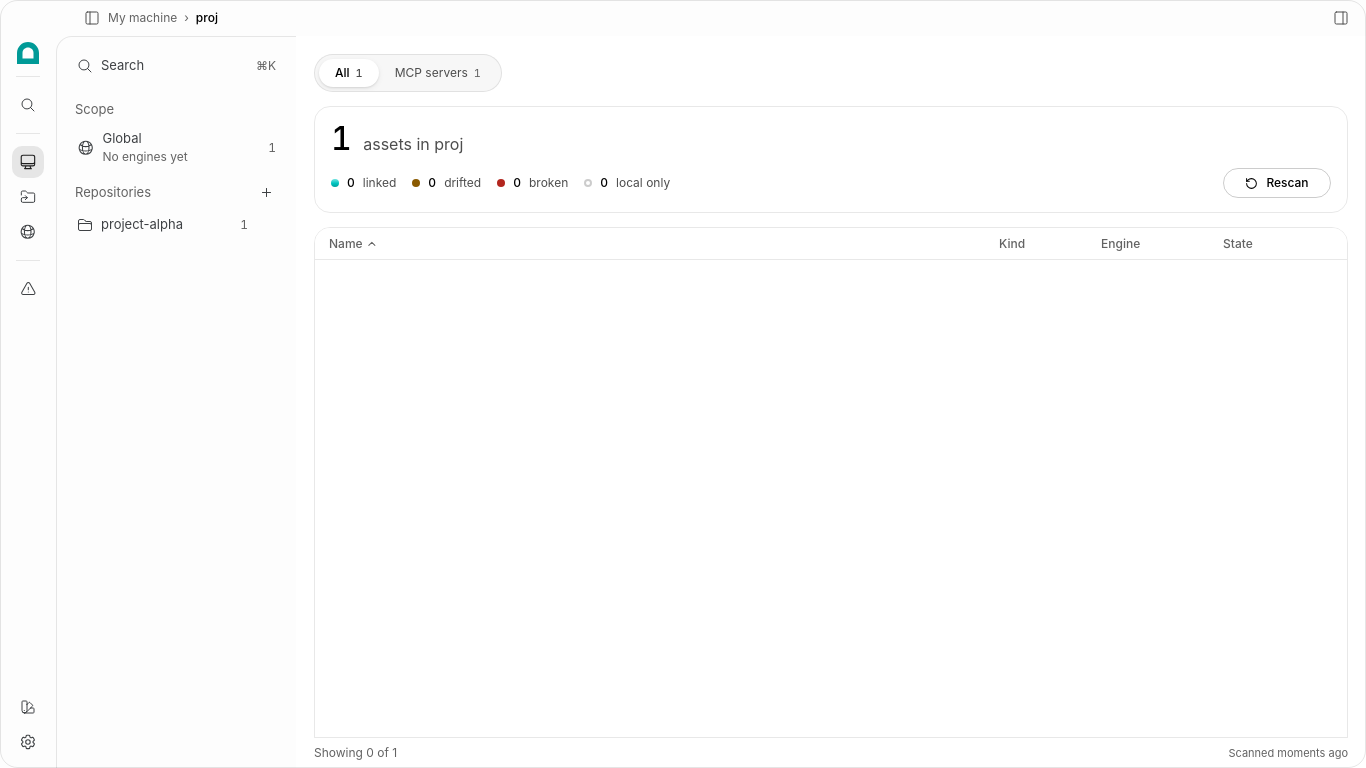
Test: picking a search hit › a tool hit opens its server on Global
Expected: the navigation bar with test id "icon-rail" is shown, [0,36,56,767]
Press k
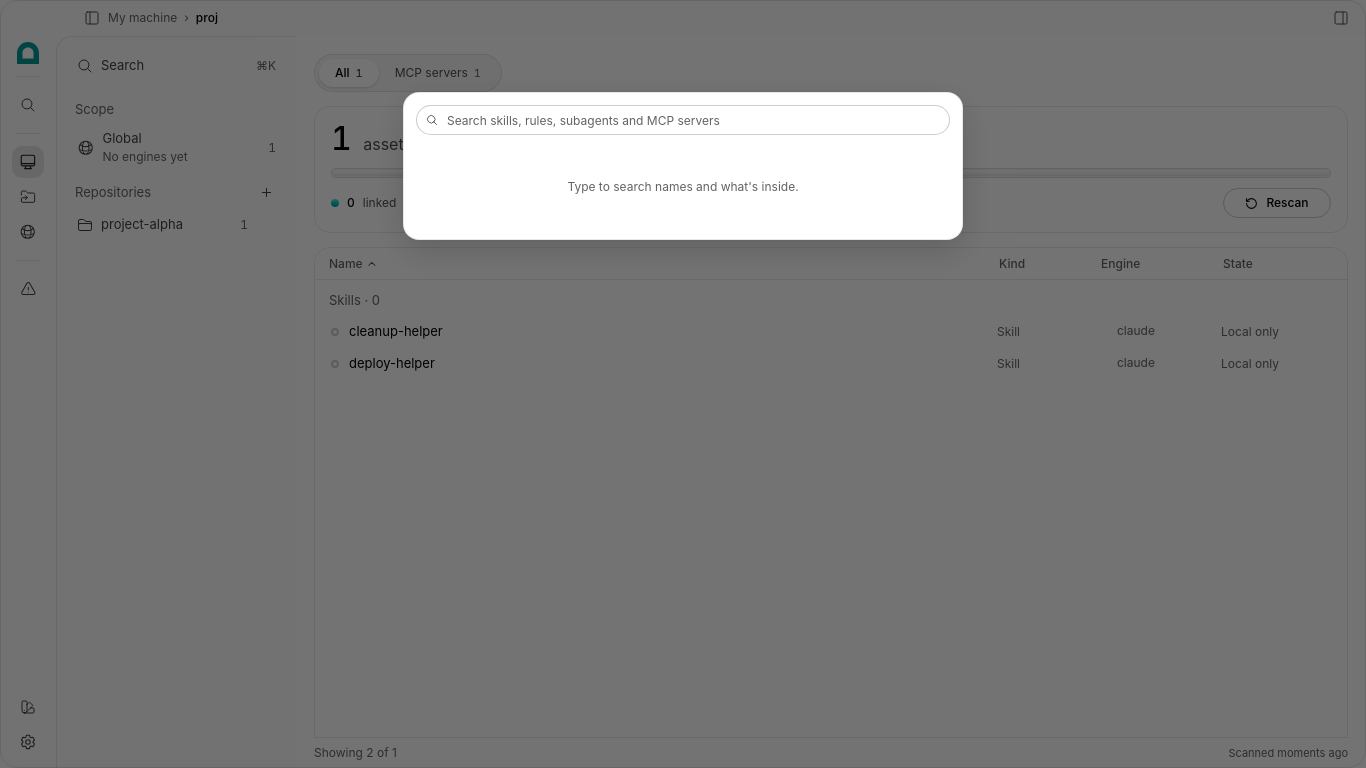
Type "loud" into the dropdown named "Search assets".
click(683, 120); type("loud")  # box [416,105,950,135]
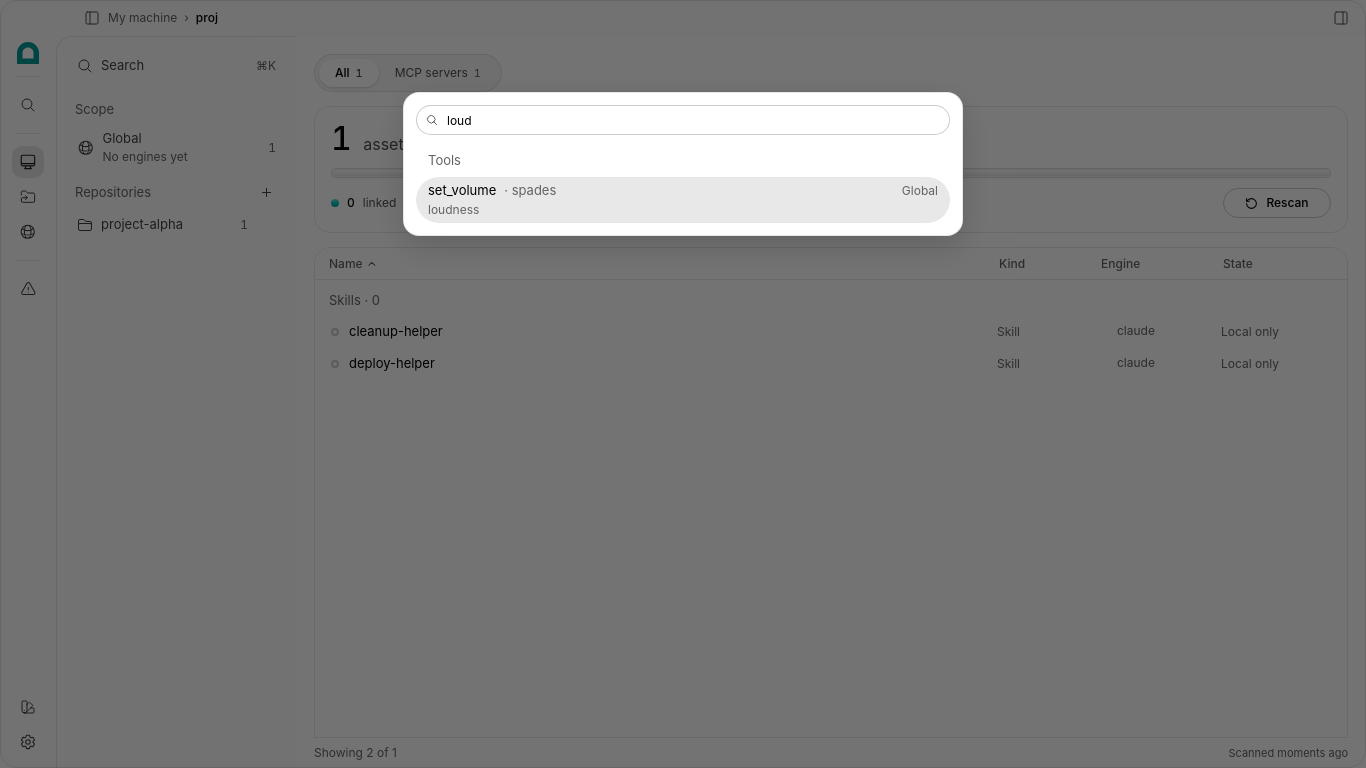
Click the text "set_volume".
click(462, 191)  # box [428,181,496,200]
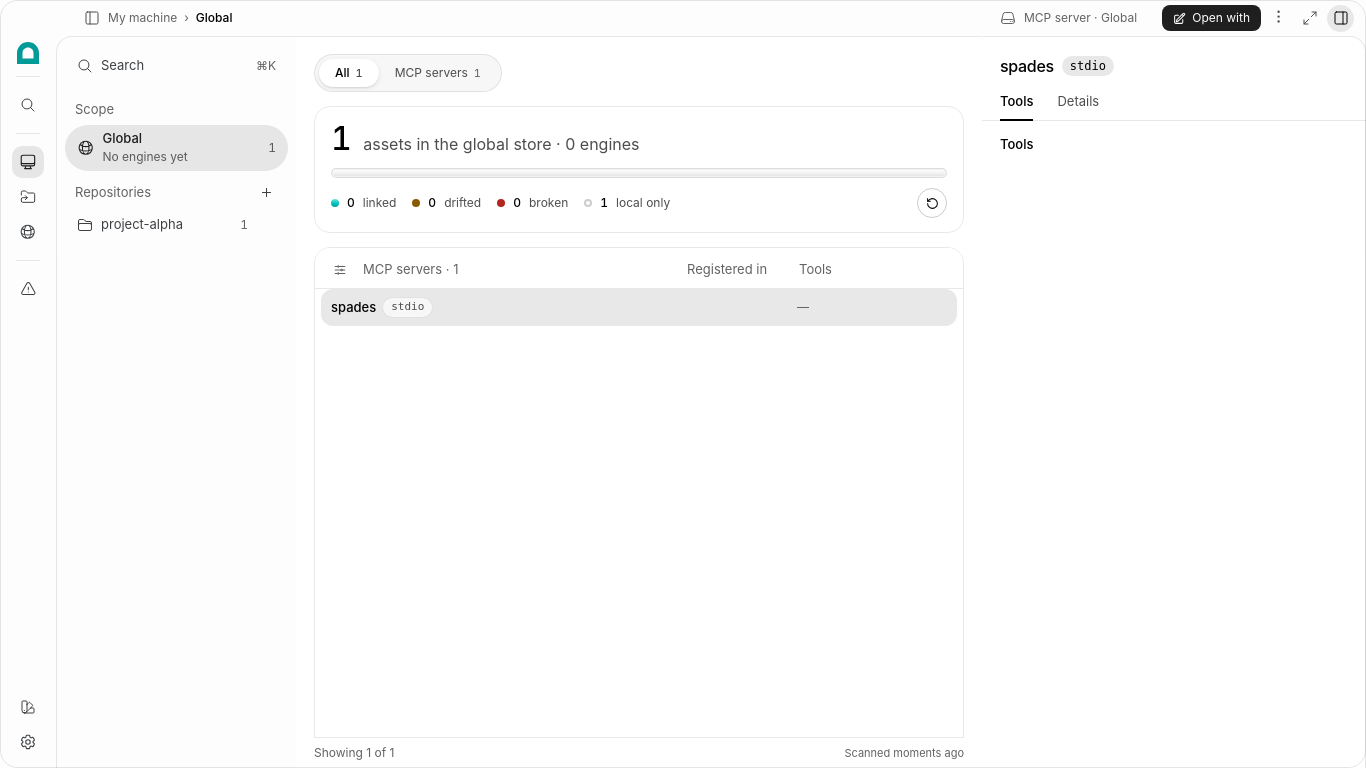
Expected: the element showing "spades stdio —" is shown, [321,289,957,326]
